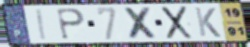7: (96, 6, 120, 42)
I: (35, 8, 49, 42)
K: (193, 7, 223, 39)
P: (56, 8, 87, 41)
X: (121, 7, 161, 41), (160, 5, 194, 41)
